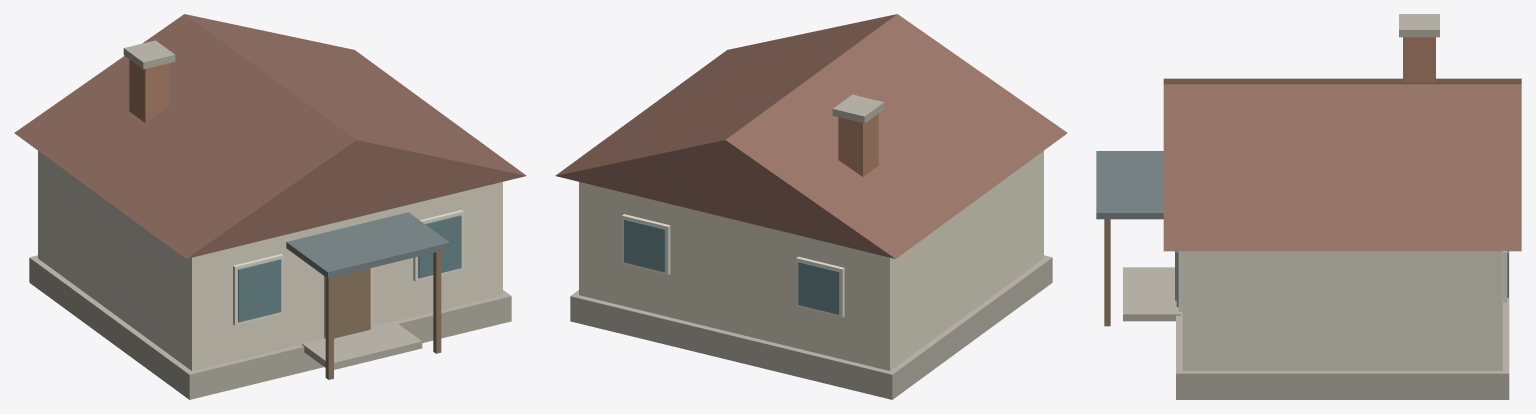
The picture shows the model from 3 angles, left to right: view 1: azimuth 30°, elevation 25°; view 2: azimuth 150°, elevation 25°; view 3: azimuth 270°, elevation 25°; orthographic projection. The views are drawn at different scales.
Bounding box in the file's own units: 9.2 × 6.29 × 9.57.
